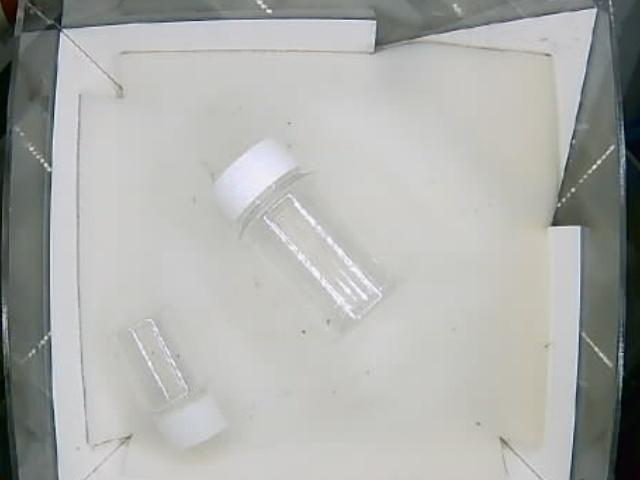Bottle: (213, 138, 399, 334), (109, 314, 241, 452)
